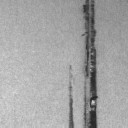slag inclusion: (82, 0, 99, 128), (68, 66, 75, 128)
